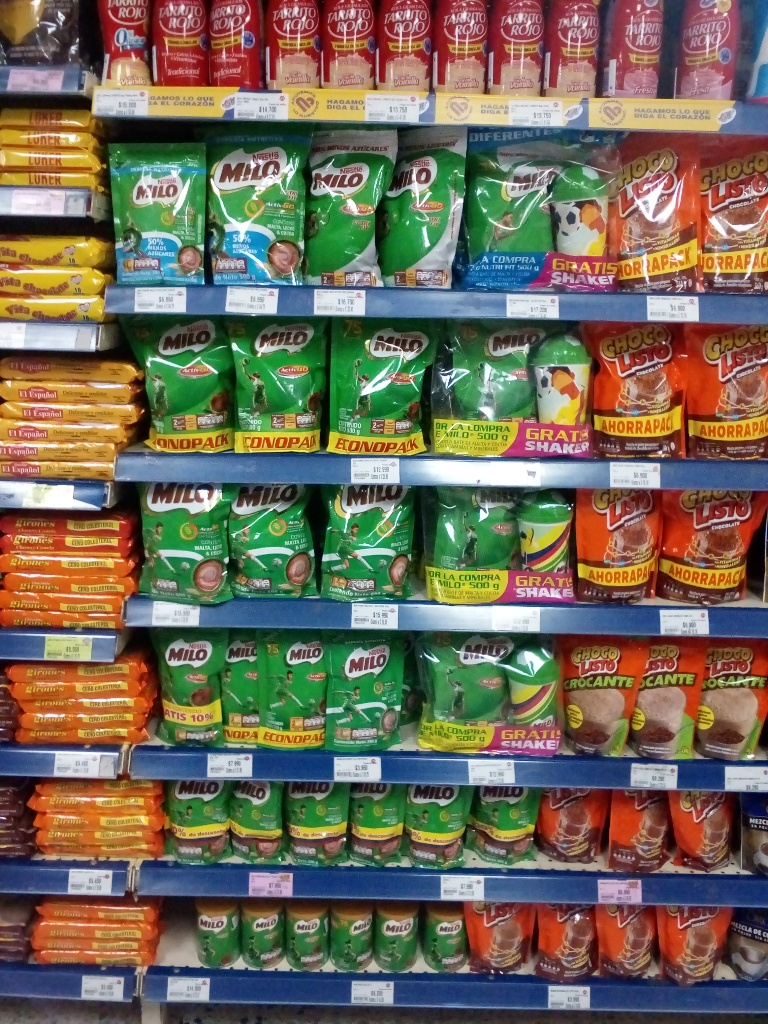COL0170102DYP25000: (559, 634, 639, 762)
COL0170103DYP20000: (464, 898, 536, 979)
COL0170103DYP36000: (603, 131, 702, 292)
COL0170203DYP25000: (321, 630, 406, 753)
COL0170203DYP50000: (443, 318, 538, 454)
COL0170203LAT20000: (190, 896, 242, 970)
COL0170205DYP20000: (99, 137, 206, 288)
COL0170205DYP50000: (199, 121, 305, 288)
